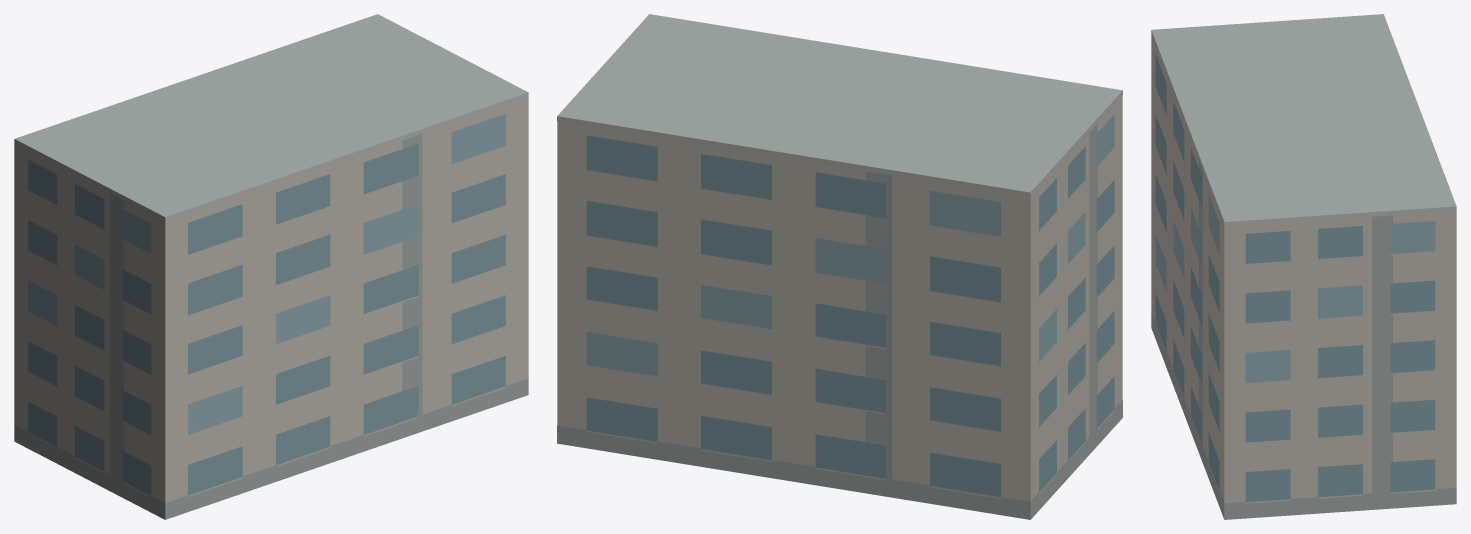
Rendered from residential-fabfe50e-1b7d-42ca-a8ac-4db87d906569.glb.
3 renders of one model, left to right at view 1: azimuth 30°, elevation 25°; view 2: azimuth 150°, elevation 25°; view 3: azimuth 270°, elevation 25°, orthographic. The views are drawn at different scales.
Parts seen in each view (by area): view 1: residential-fabfe50e-1b7d-42ca-a8ac-4db87d906569.tmp; view 2: residential-fabfe50e-1b7d-42ca-a8ac-4db87d906569.tmp; view 3: residential-fabfe50e-1b7d-42ca-a8ac-4db87d906569.tmp.
Boxes of the visible parts, <box> form: residential-fabfe50e-1b7d-42ca-a8ac-4db87d906569.tmp: <box>14,14,528,519</box>; residential-fabfe50e-1b7d-42ca-a8ac-4db87d906569.tmp: <box>557,14,1122,519</box>; residential-fabfe50e-1b7d-42ca-a8ac-4db87d906569.tmp: <box>1151,14,1456,519</box>.
Size of the model in its own units: 22.86 by 15.25 by 14.18.
